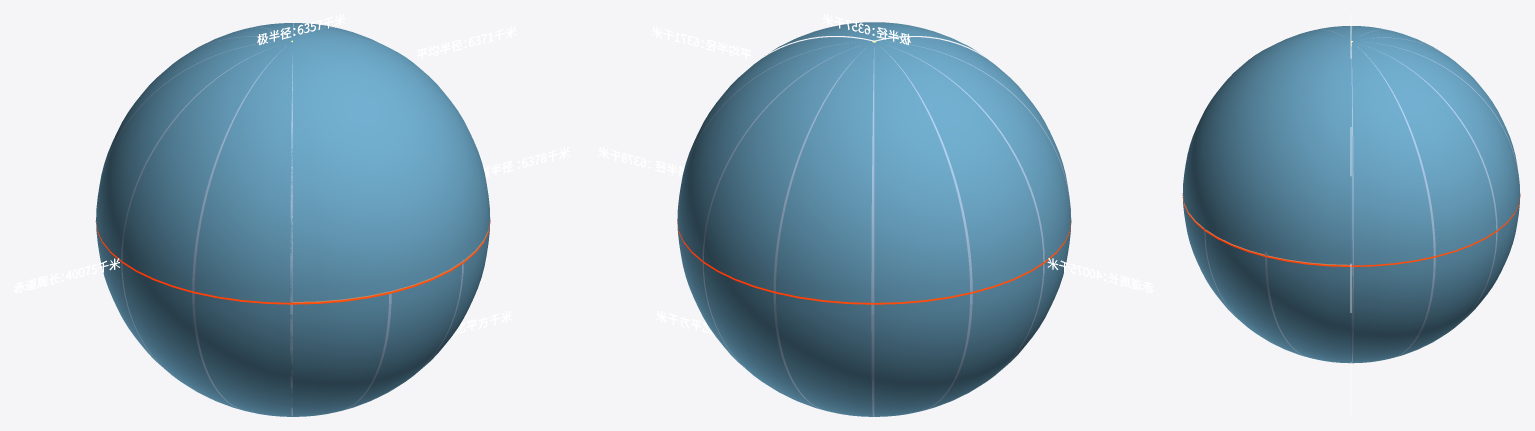
File: earth_measure_01.gltf
3 renders of one model, left to right at view 1: azimuth 30°, elevation 25°; view 2: azimuth 150°, elevation 25°; view 3: azimuth 270°, elevation 25°, orthographic. The views are drawn at different scales.
Visible parts, largest first — view 1: eartn_main, eluosi, frame, chidao2, type4, type3, type2; view 2: eartn_main, frame, eluosi, chidao2, type4, type3, type2, type1; view 3: eartn_main, eluosi, frame, chidao2.
Part boxes in pixels (box(x1,y1,x2,y2)): eartn_main: box(96, 23, 489, 416); eluosi: box(293, 35, 490, 301); frame: box(100, 23, 490, 415); chidao2: box(95, 220, 490, 304); type4: box(14, 258, 119, 293); type3: box(417, 26, 516, 59); type2: box(257, 14, 345, 45); eartn_main: box(677, 37, 1070, 416); frame: box(681, 37, 1071, 416); eluosi: box(768, 22, 977, 53); chidao2: box(677, 220, 1071, 304); type4: box(1047, 258, 1153, 293); type3: box(651, 26, 751, 59); type2: box(822, 14, 910, 45); type1: box(598, 147, 684, 177); eartn_main: box(1183, 26, 1519, 363); eluosi: box(1182, 36, 1351, 264); frame: box(1204, 26, 1520, 363); chidao2: box(1182, 195, 1520, 266).
Size of the model in its own units: 163 by 104 by 100.
